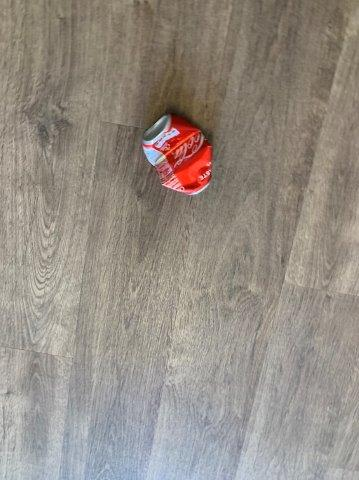kaleng: (144, 114, 212, 194)
